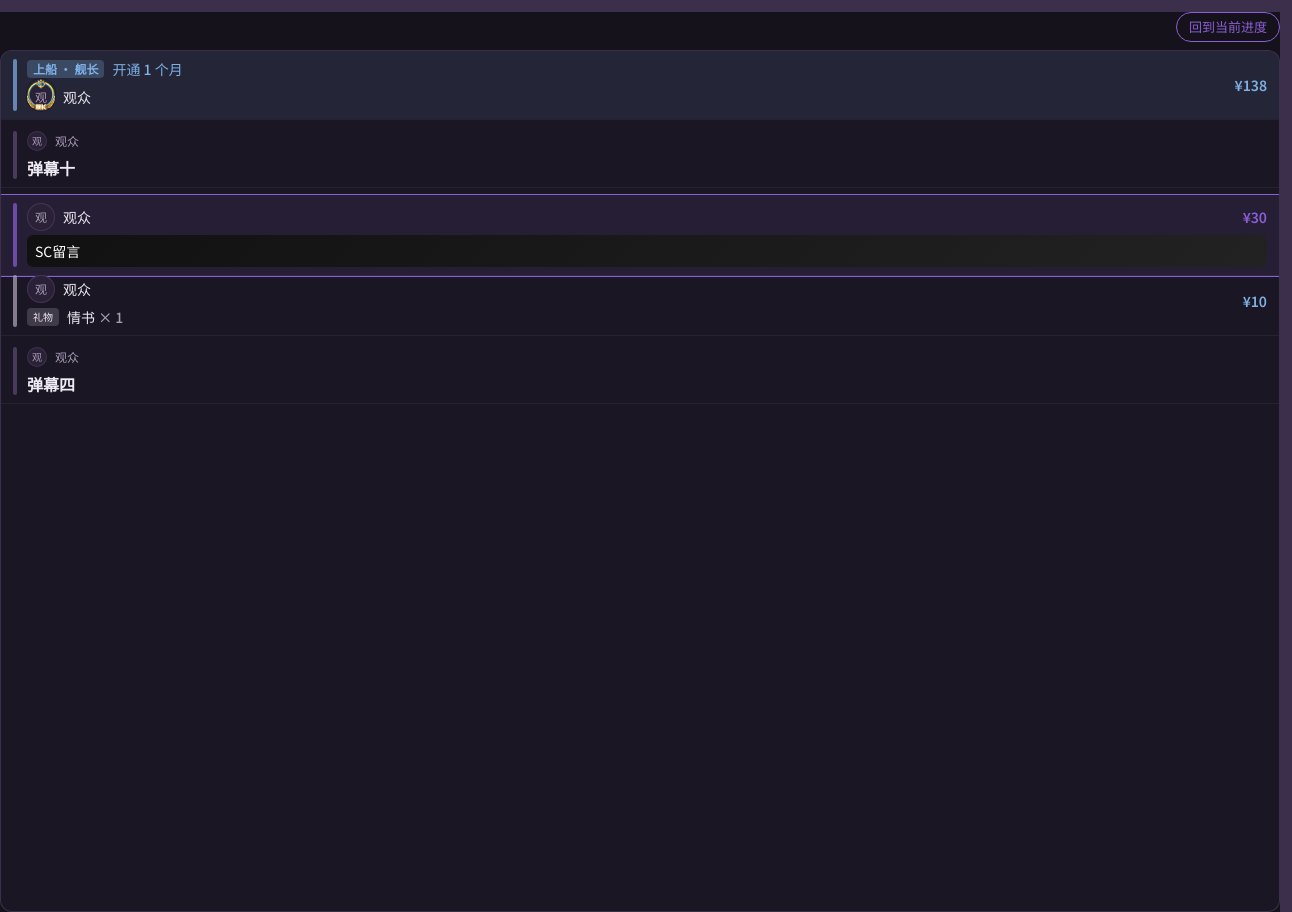
Scenario: EventTimeline 事件列表 › 手动滚动暂停跟随并显示「回到当前进度」，点击后恢复
Step 1. Click the button "回到当前进度" → [1228, 27], box [1176,12,1280,42]
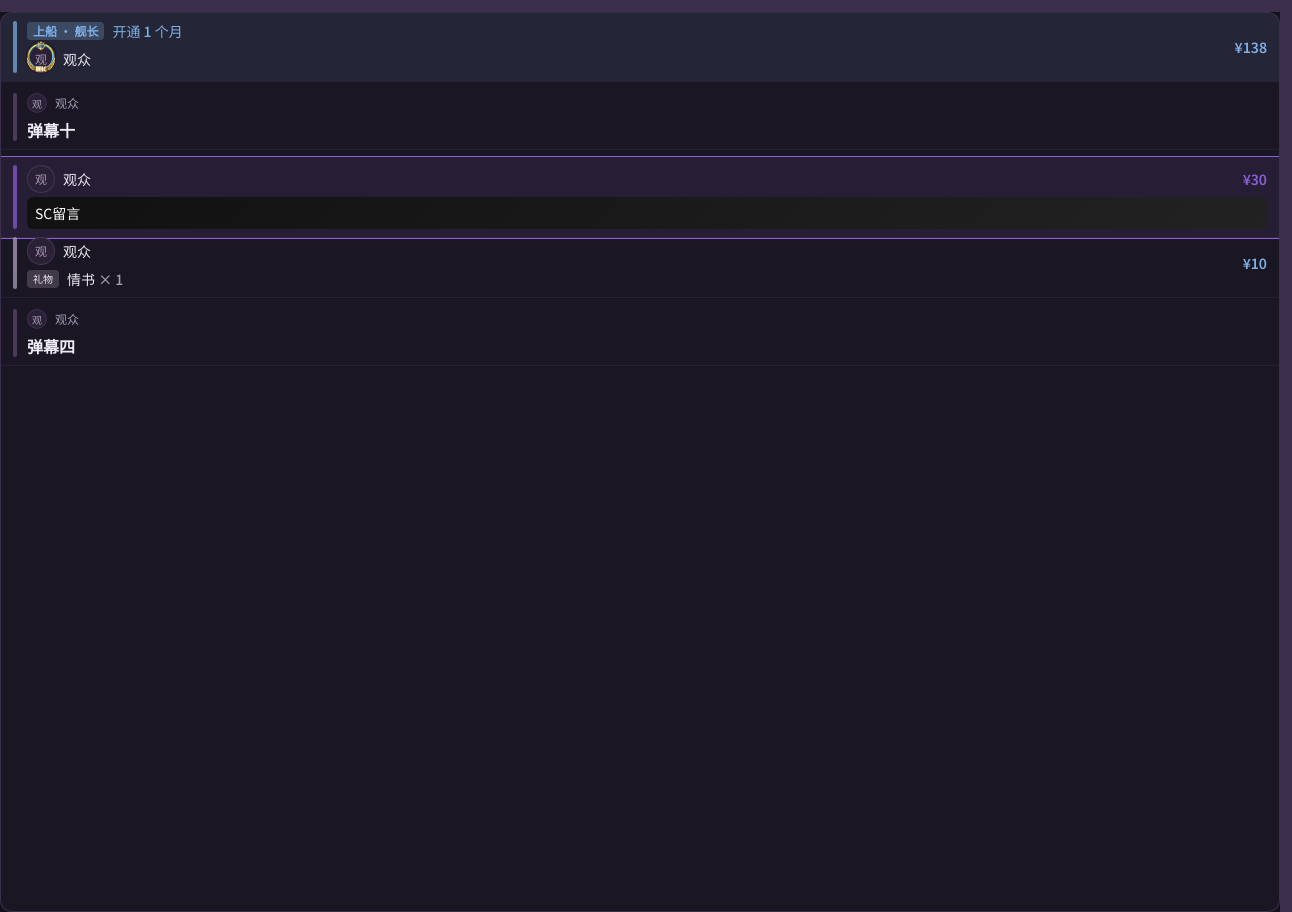
Expected: the button "回到当前进度" is gone
